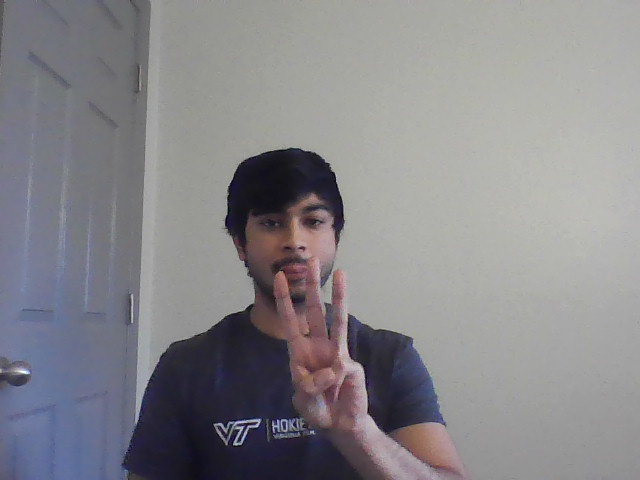three: (270, 253, 373, 417)
